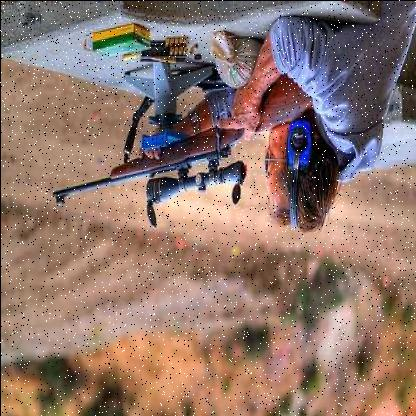rifle: (40, 54, 320, 244)
